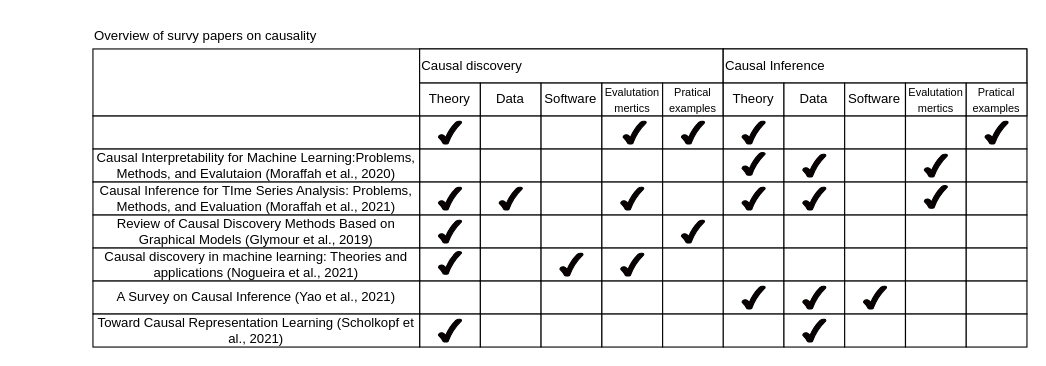
This 1046x366 diagram has some shape labels left out. Here are the shapes that lost their labels. From the top down, the centre of each, then its label:
At [256,82]: "Paper title".
At [256,132]: "A Survey of Learning Causality with Data:Problems andMehdos (Guo et al.,2020)".
